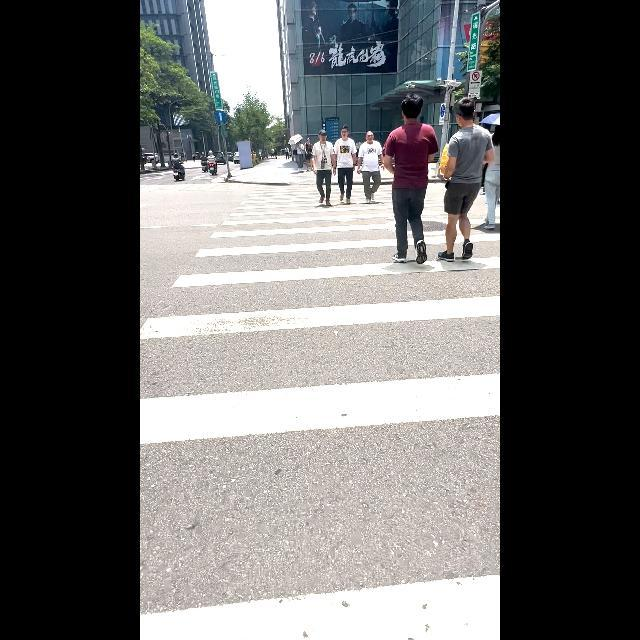sidewalk: (140, 178, 500, 640)
